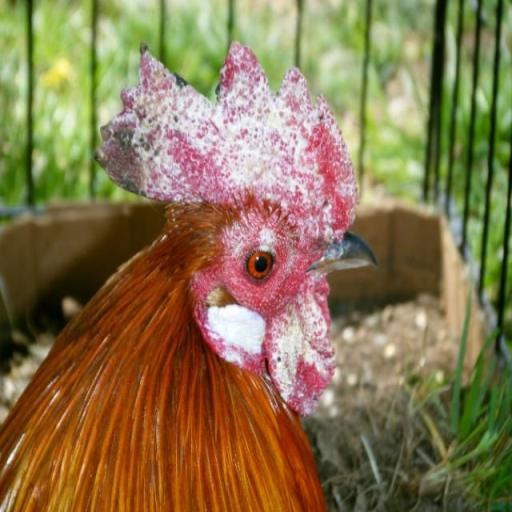disease: (207, 43, 362, 259), (86, 33, 252, 208), (256, 241, 341, 419)
